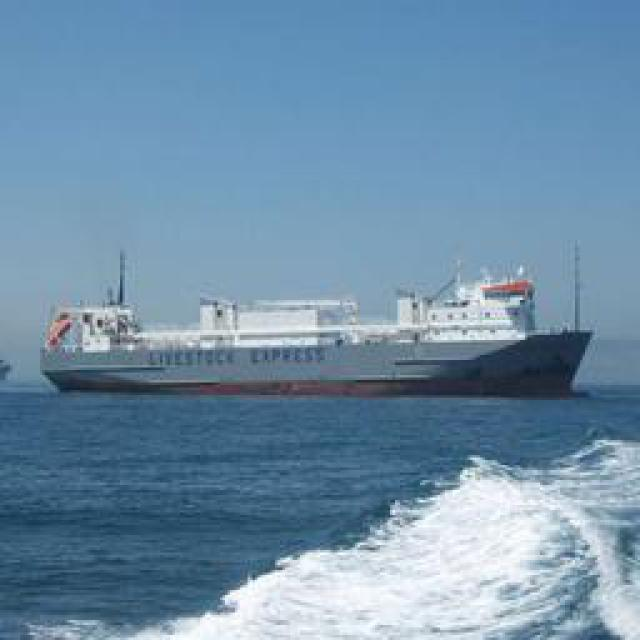Ship: (47, 255, 585, 400)
